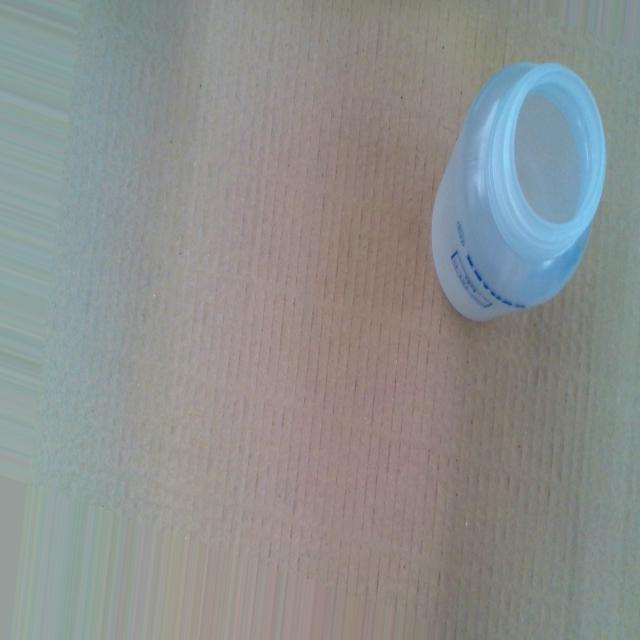bottle: (429, 56, 608, 324)
